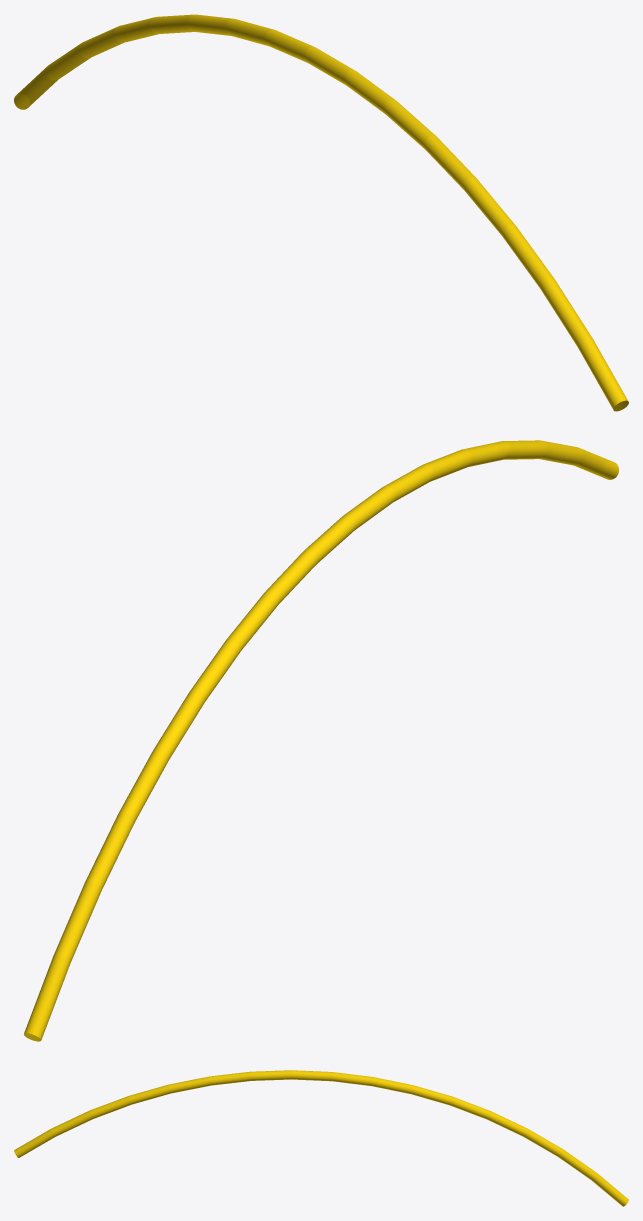
Rendered from Event_420604493_track_7.fbx.
The picture shows the model from 3 angles, top to bottom: view 1: azimuth 30°, elevation 25°; view 2: azimuth 150°, elevation 25°; view 3: azimuth 270°, elevation 25°; orthographic projection. The views are drawn at different scales.
Parts seen in each view (by area): view 1: Model; view 2: Model; view 3: Model.
Boxes of the visible parts, x1=… form: Model: x1=14, y1=14, x2=628, y2=411; Model: x1=24, y1=440, x2=618, y2=1041; Model: x1=14, y1=1070, x2=628, y2=1206.
Size of the model in its own units: 0.1172 by 0.6614 by 2.64.
